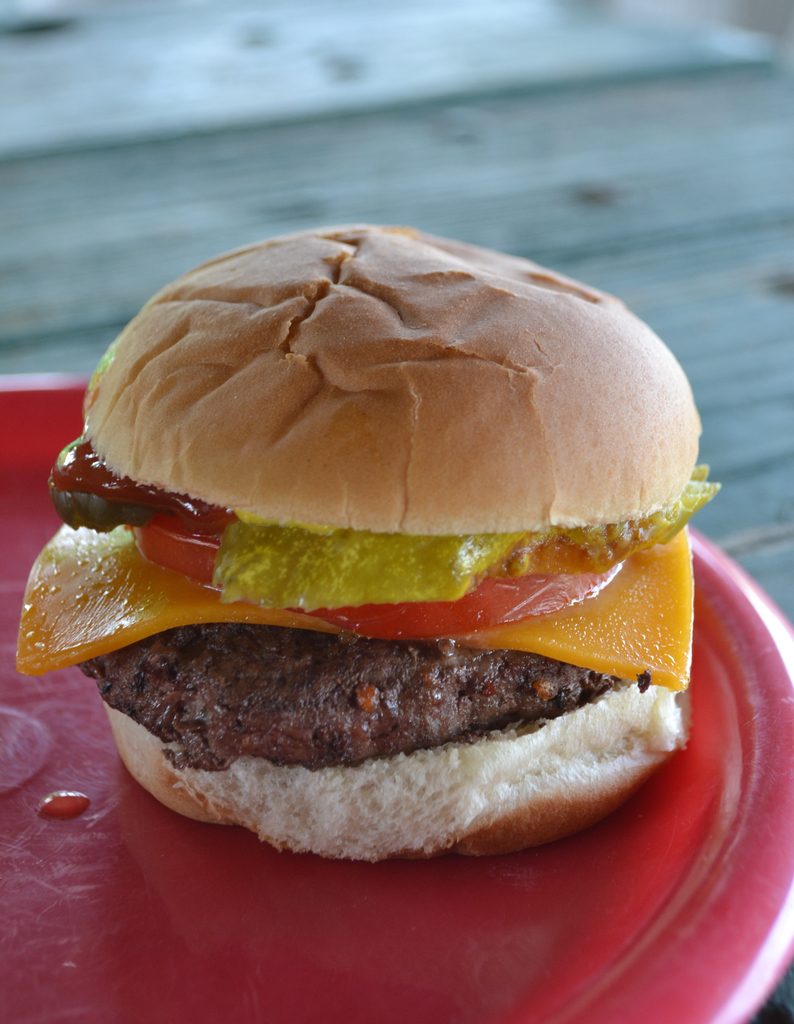Hamburger: (16, 219, 719, 865)
